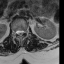CCS_normal: (18, 27, 21, 37)
LFS_normal: (24, 27, 26, 35)
LLS_normal: (21, 28, 24, 36)
RFS_normal: (13, 28, 16, 37)
RLS_normal: (16, 27, 18, 36)
